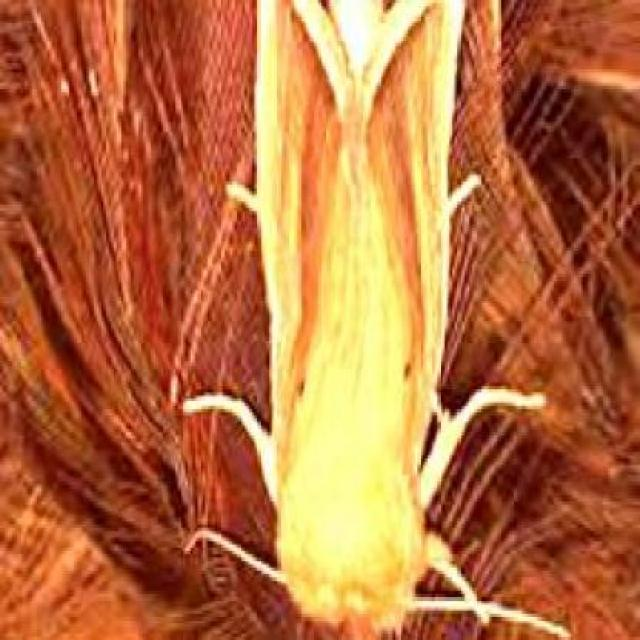stem-borer: (237, 0, 474, 634)
